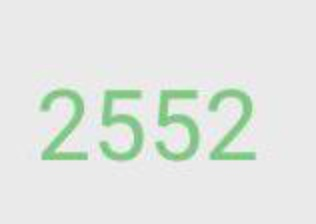TextView: (1, 1, 315, 223)
